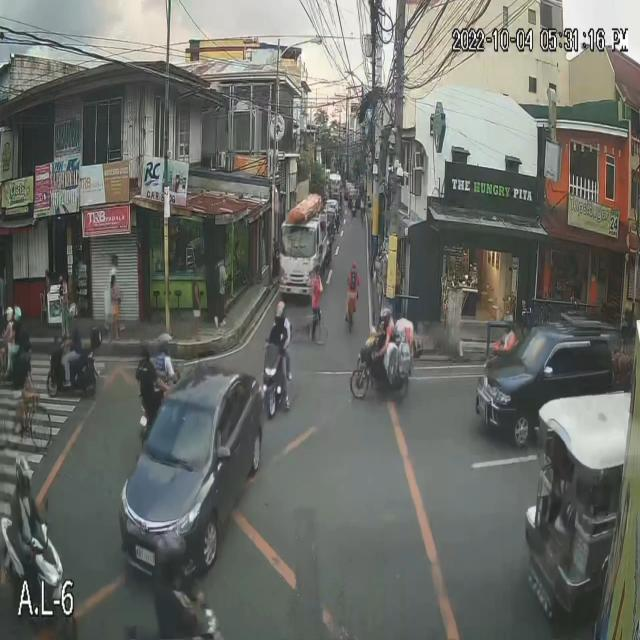Full-Faced: (12, 458, 36, 490), (150, 330, 172, 362), (383, 311, 395, 334), (273, 300, 288, 318), (64, 304, 79, 321), (274, 314, 286, 333), (13, 306, 23, 322), (5, 306, 13, 324)
Not-Wearing-Helmet: (138, 341, 150, 364)
